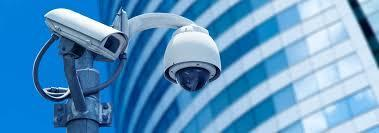maru: (160, 24, 224, 93)
tutu: (41, 7, 133, 65)
